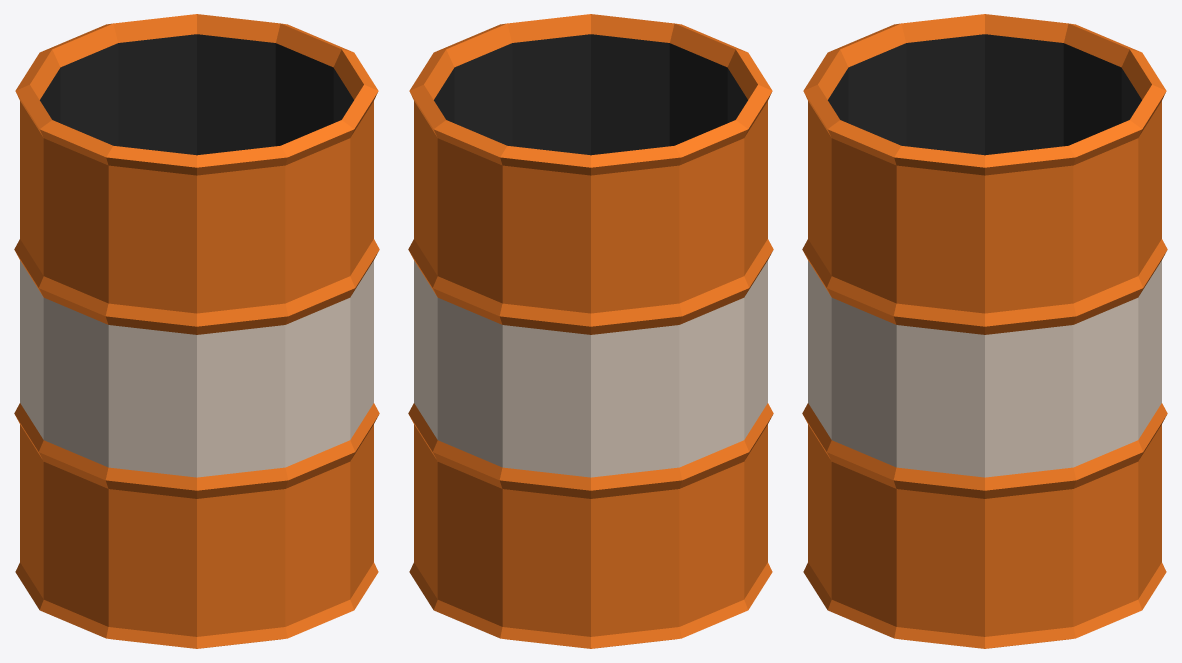
Rendered from apocalypse_barrel-empty.fbx.
The picture shows the model from 3 angles, left to right: view 1: azimuth 30°, elevation 25°; view 2: azimuth 150°, elevation 25°; view 3: azimuth 270°, elevation 25°; orthographic projection.
Visible parts, largest first — view 1: apocalypse_barrel_empty; view 2: apocalypse_barrel_empty; view 3: apocalypse_barrel_empty.
Boxes of the visible parts, x1,y1,x2,y2 form: apocalypse_barrel_empty: (14, 14, 379, 648); apocalypse_barrel_empty: (408, 14, 773, 648); apocalypse_barrel_empty: (802, 14, 1167, 648).
Size of the model in its own units: 134 by 200 by 134.
